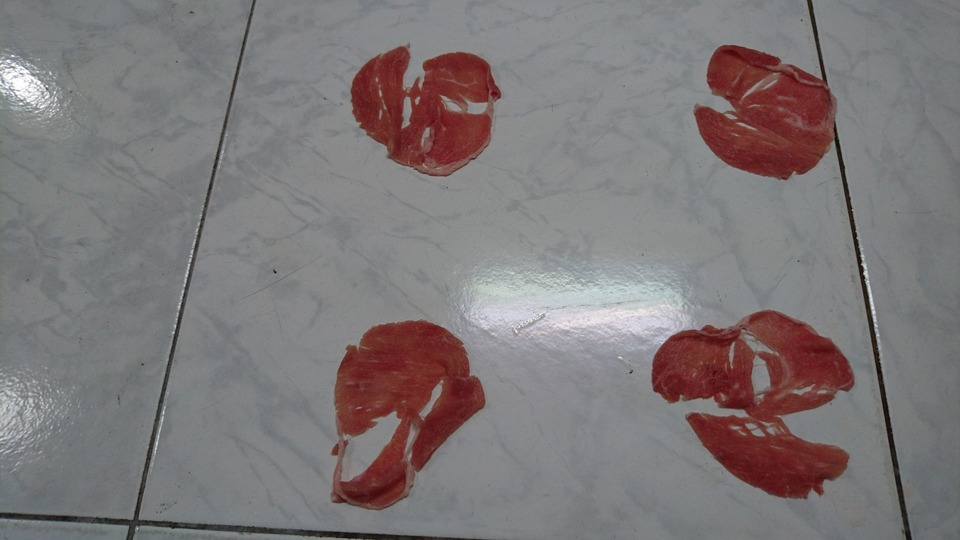restructured meat: (660, 302, 867, 502), (287, 317, 490, 509), (327, 38, 529, 198), (682, 41, 838, 181)
